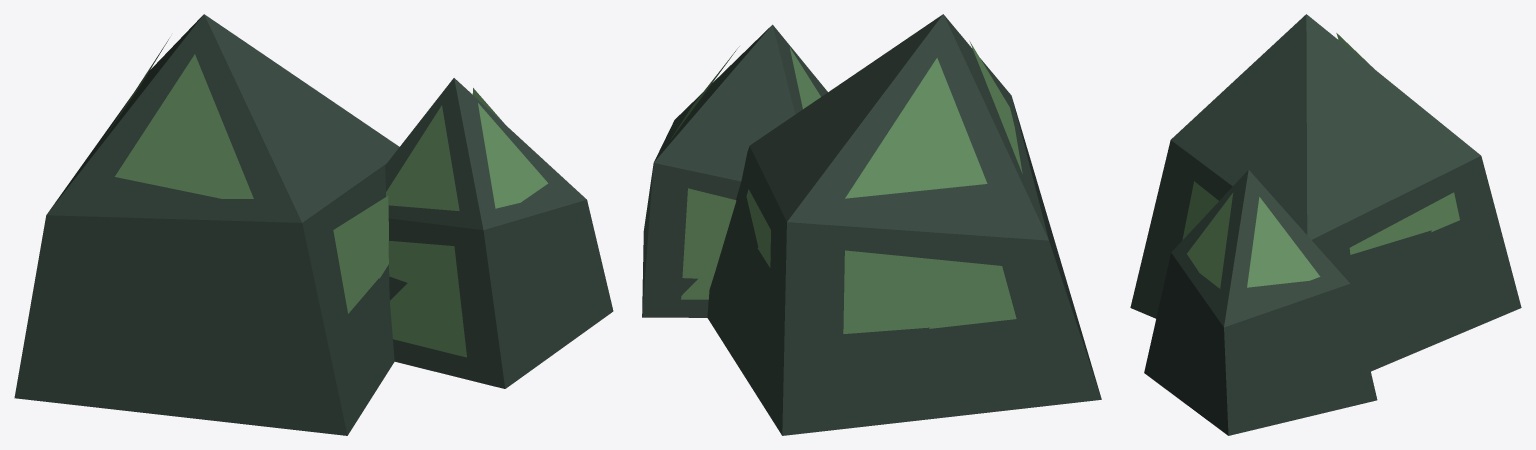
3 views of the same model, side by side, from view 1: azimuth 30°, elevation 25°; view 2: azimuth 150°, elevation 25°; view 3: azimuth 270°, elevation 25° (orthographic). The views are drawn at different scales.
Visible parts, largest first — view 1: da53ad6b011baf1b325d66115a05765e353bcc1b17574a84aedf0d88b3c7; view 2: da53ad6b011baf1b325d66115a05765e353bcc1b17574a84aedf0d88b3c7; view 3: da53ad6b011baf1b325d66115a05765e353bcc1b17574a84aedf0d88b3c7.
Boxes of the visible parts, box(x1,y1,x2,y2) form: da53ad6b011baf1b325d66115a05765e353bcc1b17574a84aedf0d88b3c7: box(14, 14, 613, 435); da53ad6b011baf1b325d66115a05765e353bcc1b17574a84aedf0d88b3c7: box(642, 14, 1101, 435); da53ad6b011baf1b325d66115a05765e353bcc1b17574a84aedf0d88b3c7: box(1130, 14, 1521, 435).
Size of the model in its own units: 1.07 by 0.665 by 0.84.
